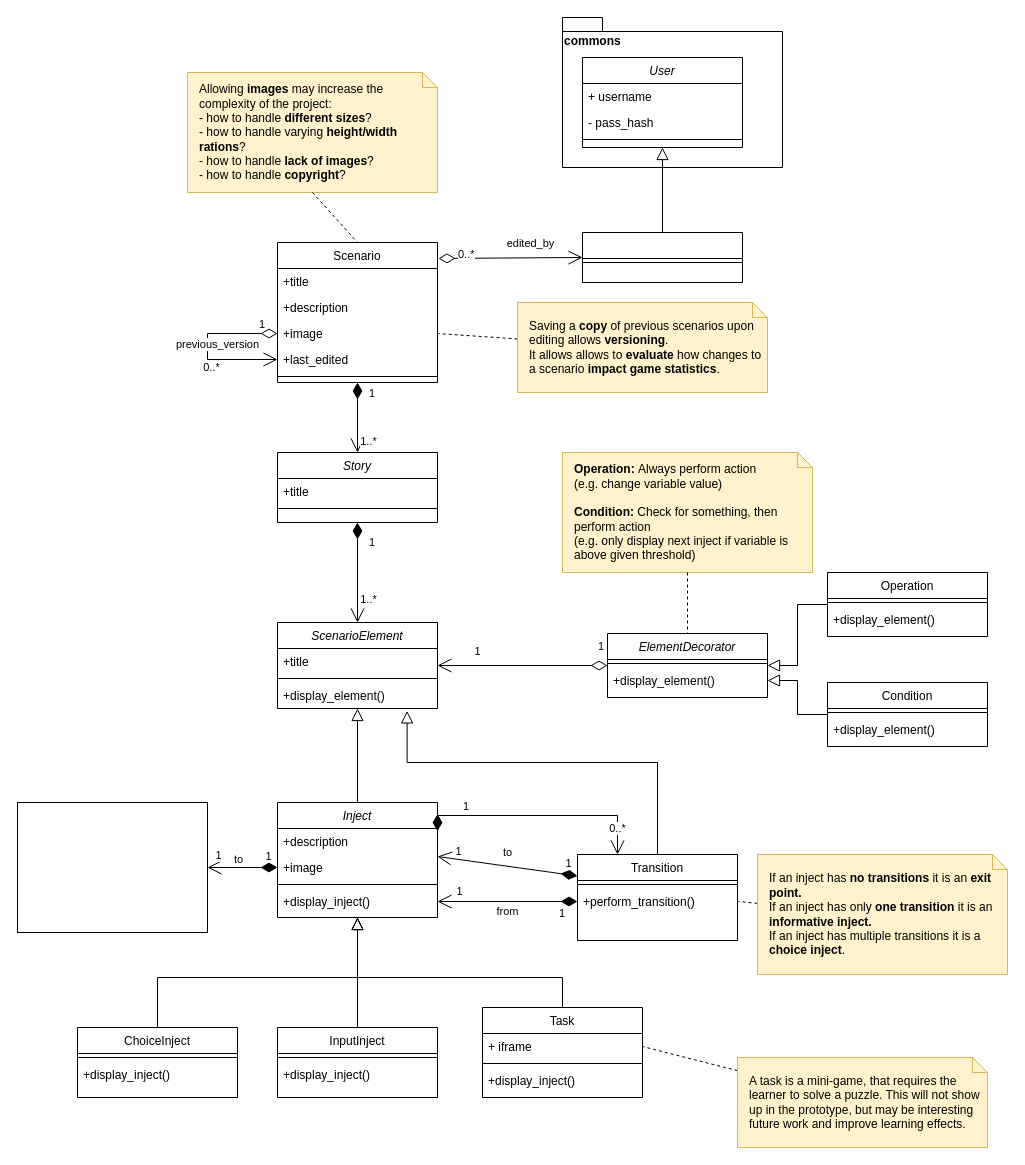
The diagram is 1025 pixels wide and 1165 high, and some of its shapes have lost their labels. Here are the shapes that lost their labels. From the top down, the centre of each, then its label:
point 662,257: ScenarioDesigner
point 112,867: <<Enum>> InjectReaction + PIE_CHART + BAR_CHART + WORD_CLOUD + ...
